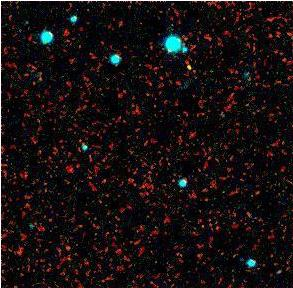star: (174, 58, 204, 88)
